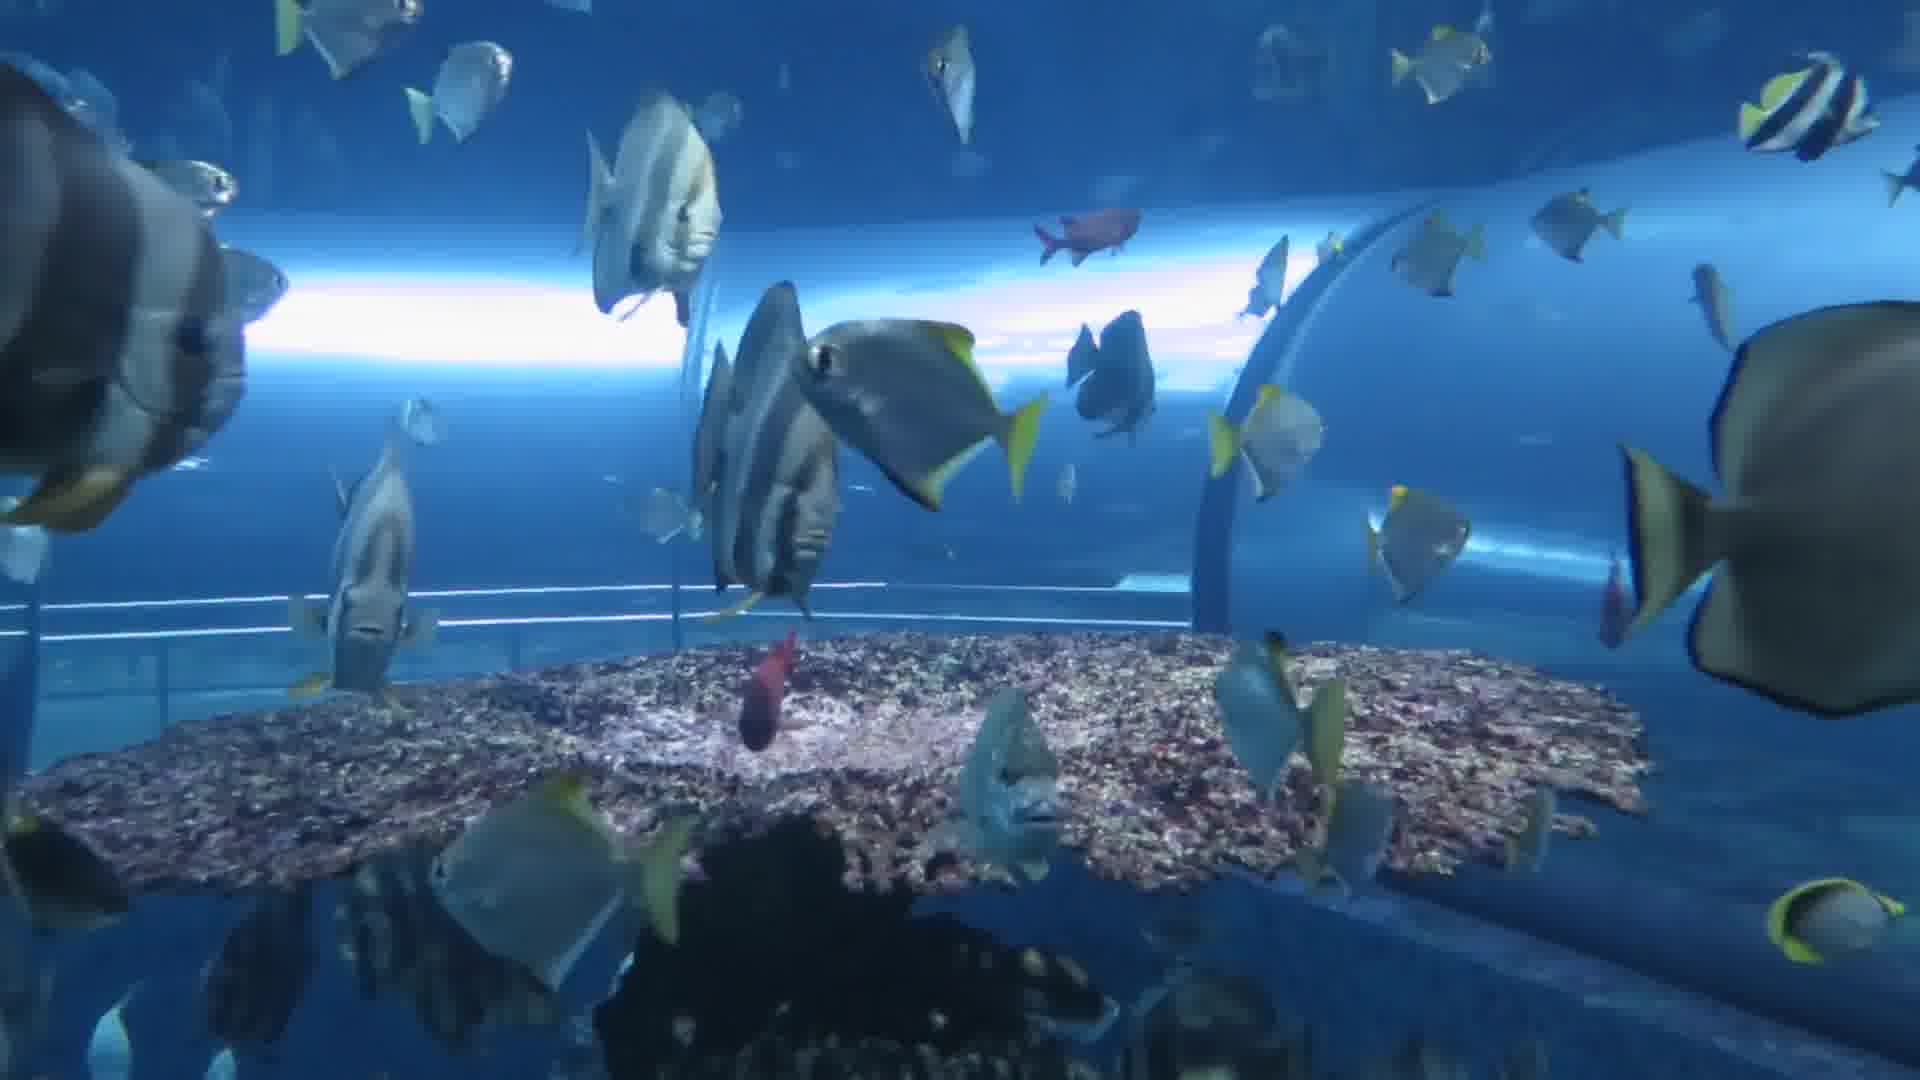Platax teira: (1621, 285, 1920, 785), (1, 53, 298, 553), (258, 402, 537, 716), (872, 621, 1150, 935), (1211, 363, 1333, 527), (1364, 465, 1485, 630)
